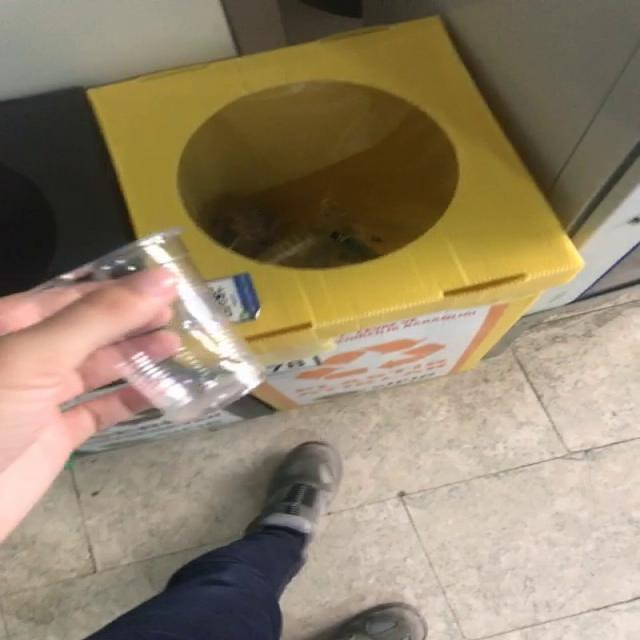plastic: (33, 230, 264, 422)
